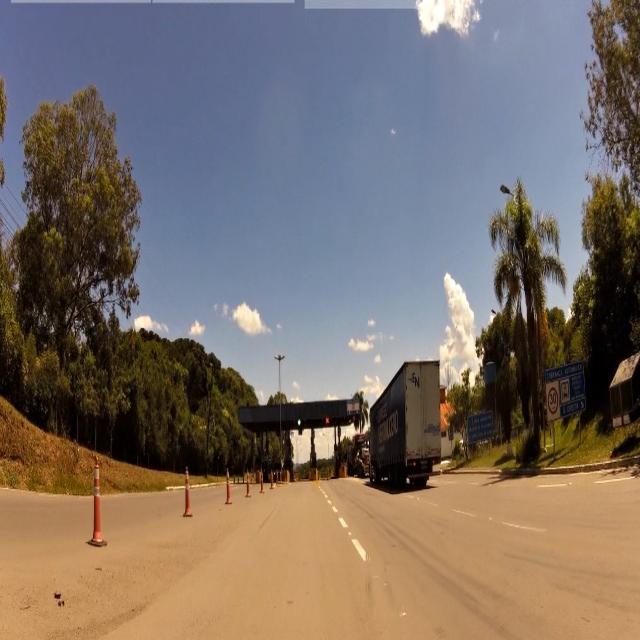R-19: (548, 388, 558, 416)
